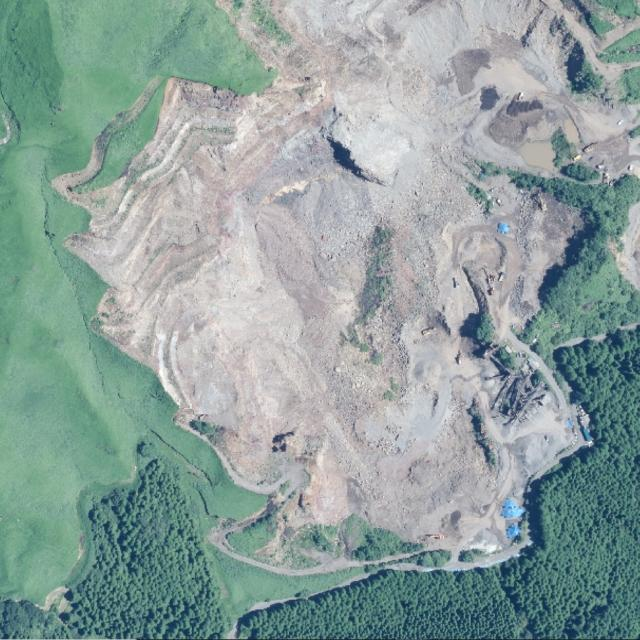landslide: (55, 0, 640, 564)
